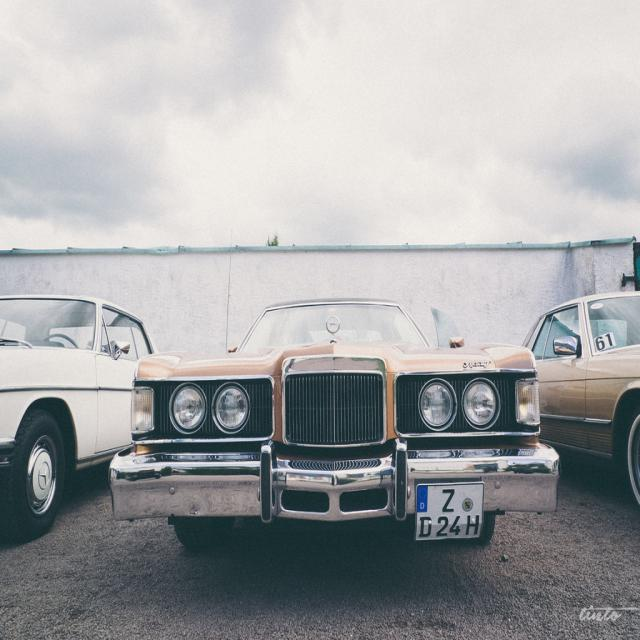car: (86, 313, 571, 547)
